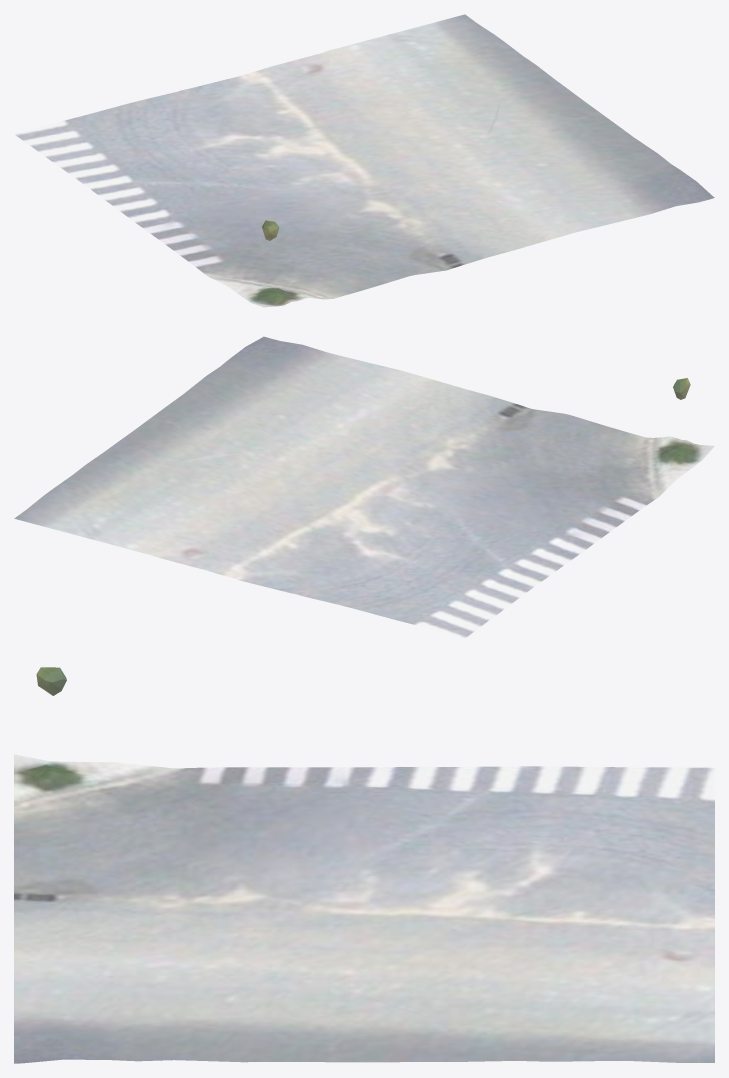
File: Tile__004__003_L22_00032100.glb
3 views of the same model, one above another, from view 1: azimuth 30°, elevation 25°; view 2: azimuth 150°, elevation 25°; view 3: azimuth 270°, elevation 25° (orthographic). The views are drawn at different scales.
Parts seen in each view (by area): view 1: root; view 2: root; view 3: root.
Part boxes in pixels (x1,y1,x2,y2): root: [14, 14, 714, 307]; root: [14, 336, 714, 638]; root: [14, 667, 714, 1063].
Size of the model in its own units: 13.09 by 2.24 by 12.56.
Materials: 1 (1 with a texture image).
